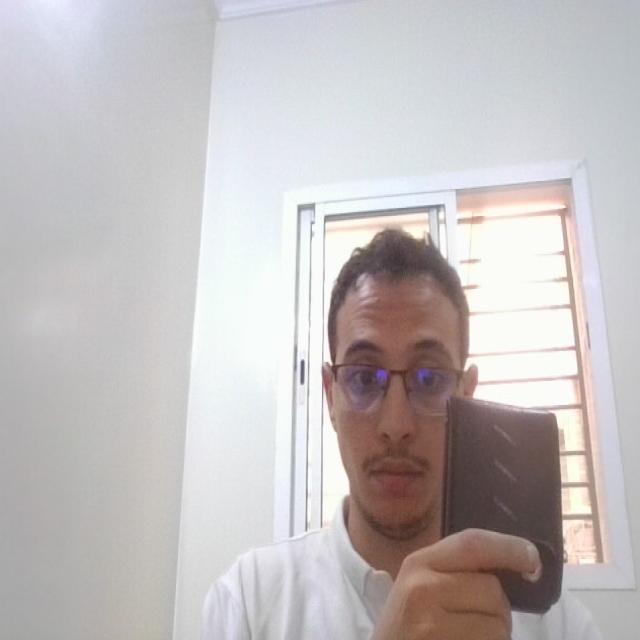wallet: (440, 388, 577, 620)
